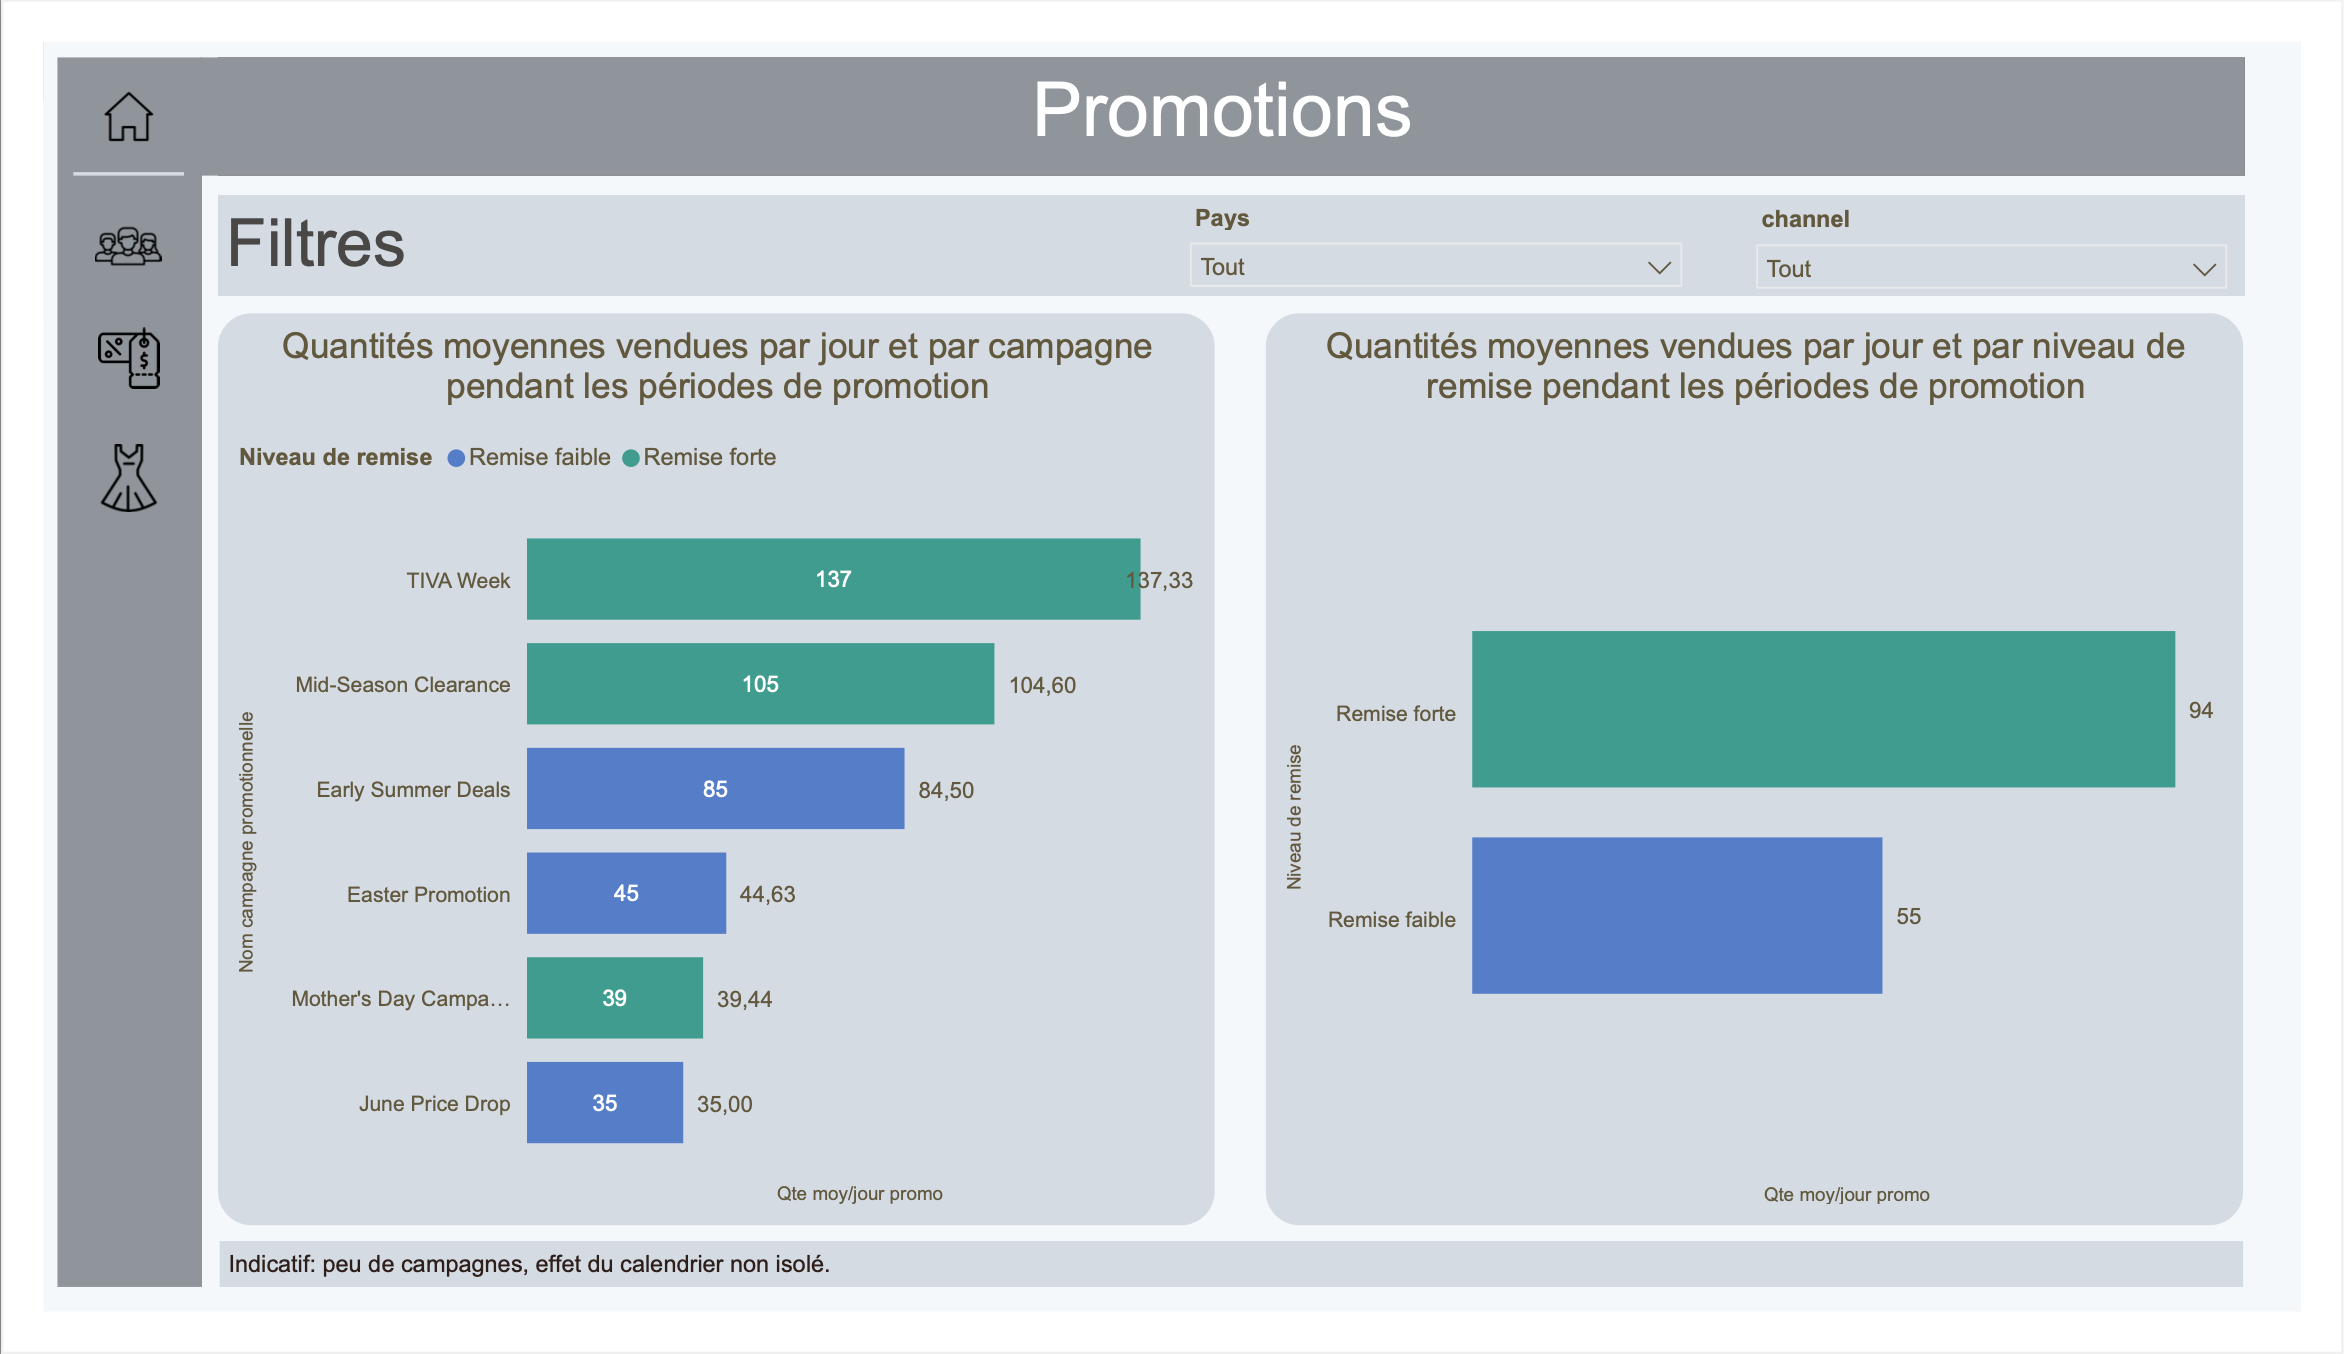

Layout of this report page (visuals, bound fields, positions):
{"tool":"powerbi","page":{"name":"Promotions","canvas":[1280,720],"ordinal":2},"visuals":[{"type":"shape","box":[99,8.9,1149,67.3],"z":0},{"type":"textbox","box":[89.2,8.7,1158.6,66.9],"z":1000},{"type":"shape","box":[8.1,9.1,81.8,697],"z":2000},{"type":"image","box":[33.1,20.4,31.1,44.7],"z":3000},{"type":"image","box":[29.2,86.6,37.9,57.4],"z":4000},{"type":"image","box":[29.2,162.4,37.9,35],"z":5000},{"type":"image","box":[25.3,227.6,46.7,39.9],"z":6000},{"type":"shape","box":[16.5,63.2,63.2,23.3],"z":7000},{"type":"barChart","title":"Quantités moyennes vendues par jour et par campagne pendant les périodes de promotion","fields":{"Category":["Campagnes_promotionnelles.campaign_name"],"Series":["Campagnes_promotionnelles.Discount_class"],"Y":["Mesures.Qte moy/jour promo"]},"box":[99,153.5,564.6,517.2],"z":8000},{"type":"barChart","title":"Quantités moyennes vendues par jour et par niveau de remise pendant les périodes de promotion","fields":{"Category":["Campagnes_promotionnelles.Discount_class"],"Y":["Mesures.Qte moy/jour promo"]},"box":[692.9,153.5,554.5,517.2],"z":9000},{"type":"shape","box":[99.4,87,1148.3,57.2],"z":10000},{"type":"slicer","fields":{"Values":["Ventes.country"]},"box":[640,87,299.5,57.2],"z":11000},{"type":"slicer","fields":{"Values":["Ventes_details.channel"]},"box":[960.6,88.2,287.1,55.9],"z":12000},{"type":"textbox","box":[99.4,88.2,300.7,55.9],"z":13000},{"type":"textbox","box":[100,679.8,1147.5,26.3],"z":14000}]}

Visuals, with their boxes on the page's 1280x720 design canvas (x1, y1, x2, y2). These are canvas units, not pixel positions in the 2344x1354 screenshot, which may show the page scaled, cropped or inside an application window:
shape: crop(99, 9, 1248, 76)
textbox: crop(89, 9, 1248, 76)
shape: crop(8, 9, 90, 706)
image: crop(33, 20, 64, 65)
image: crop(29, 87, 67, 144)
image: crop(29, 162, 67, 197)
image: crop(25, 228, 72, 268)
shape: crop(16, 63, 80, 86)
"Quantités moyennes vendues par jour et par campagne pendant les périodes de promotion" barChart: crop(99, 154, 664, 671)
"Quantités moyennes vendues par jour et par niveau de remise pendant les périodes de promotion" barChart: crop(693, 154, 1247, 671)
shape: crop(99, 87, 1248, 144)
slicer - Ventes.country: crop(640, 87, 940, 144)
slicer - Ventes_details.channel: crop(961, 88, 1248, 144)
textbox: crop(99, 88, 400, 144)
textbox: crop(100, 680, 1248, 706)
